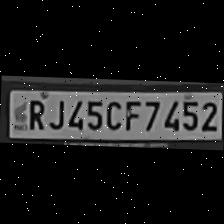2: (198, 96, 218, 131)
4: (64, 94, 84, 129), (159, 96, 179, 130)
5: (82, 96, 102, 130), (178, 96, 198, 130)
7: (140, 96, 158, 130)
C: (102, 96, 122, 130)
F: (122, 96, 140, 130)
J: (46, 94, 66, 128)
R: (23, 94, 47, 129)
